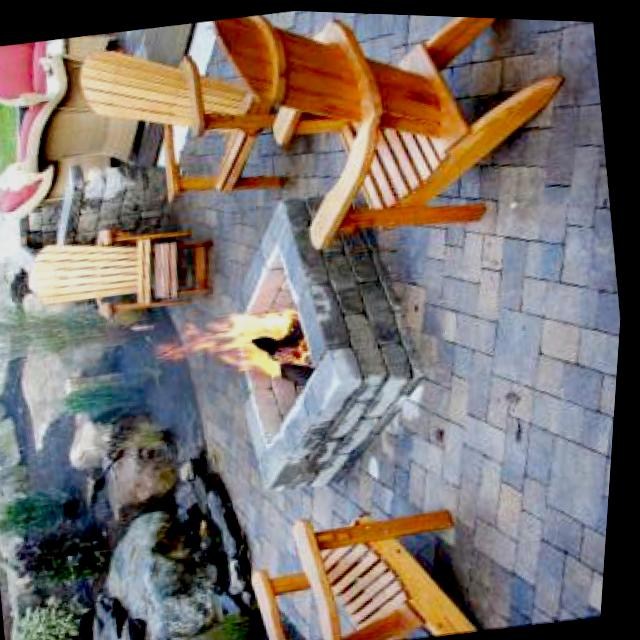Fire: (184, 306, 310, 385)
